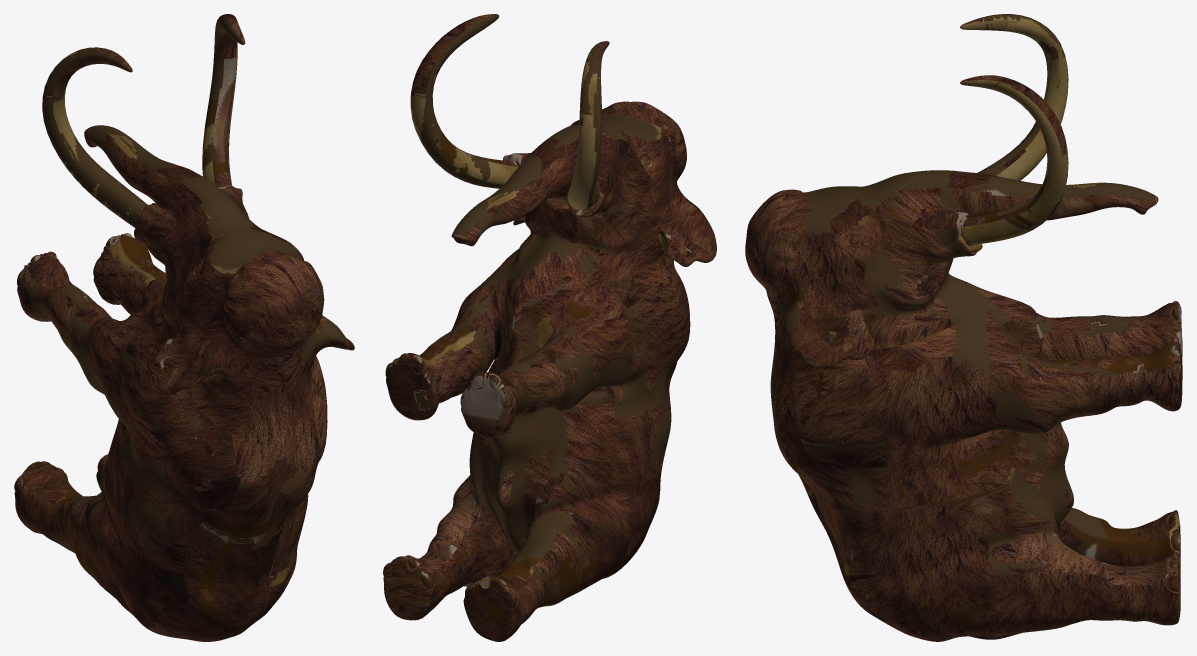
File: momothredone.fbx
3 views of the same model, side by side, from view 1: azimuth 30°, elevation 25°; view 2: azimuth 150°, elevation 25°; view 3: azimuth 270°, elevation 25° (orthographic). The views are drawn at different scales.
Visible parts, largest first — view 1: 12229_mammmoth_v1_L3; view 2: 12229_mammmoth_v1_L3; view 3: 12229_mammmoth_v1_L3.
Boxes of the visible parts, box(x1,y1,x2,y2) form: 12229_mammmoth_v1_L3: box(14, 14, 354, 641); 12229_mammmoth_v1_L3: box(383, 14, 716, 641); 12229_mammmoth_v1_L3: box(745, 14, 1182, 641).
Size of the model in its own units: 8680 by 25055 by 16765.
Materials: 2 (2 with a texture image).
